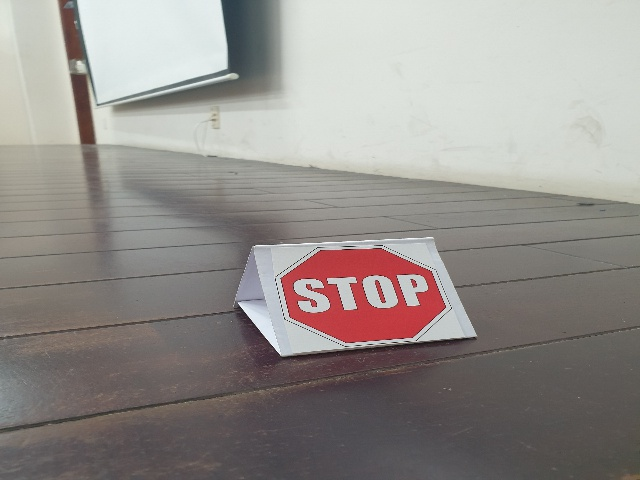Stop: (271, 246, 448, 343)
